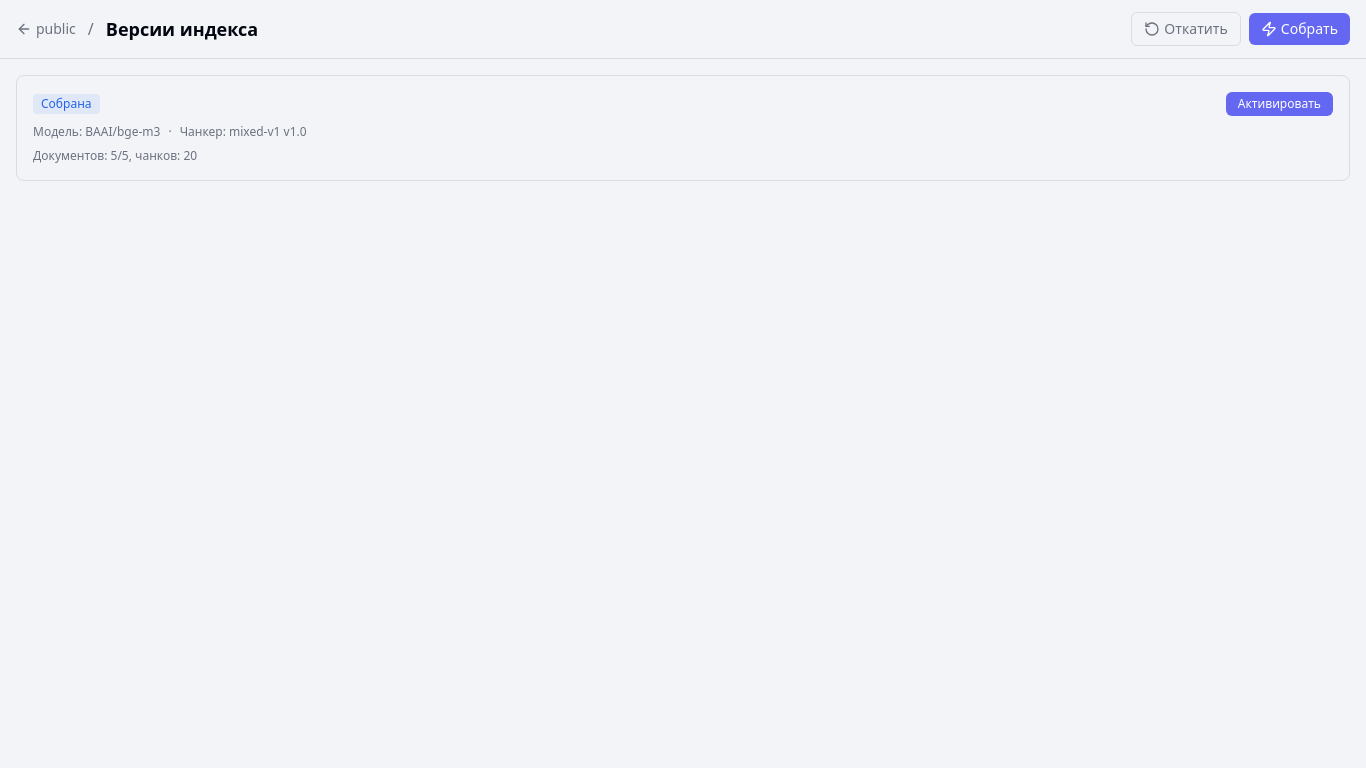
Scenario: IndexVersionsPage › activate success with warning closes dialog and shows notice
// Открываем диалог кнопкой в строке версии
Click the button "Активировать" at [1279, 104], box [1226,92,1333,116]
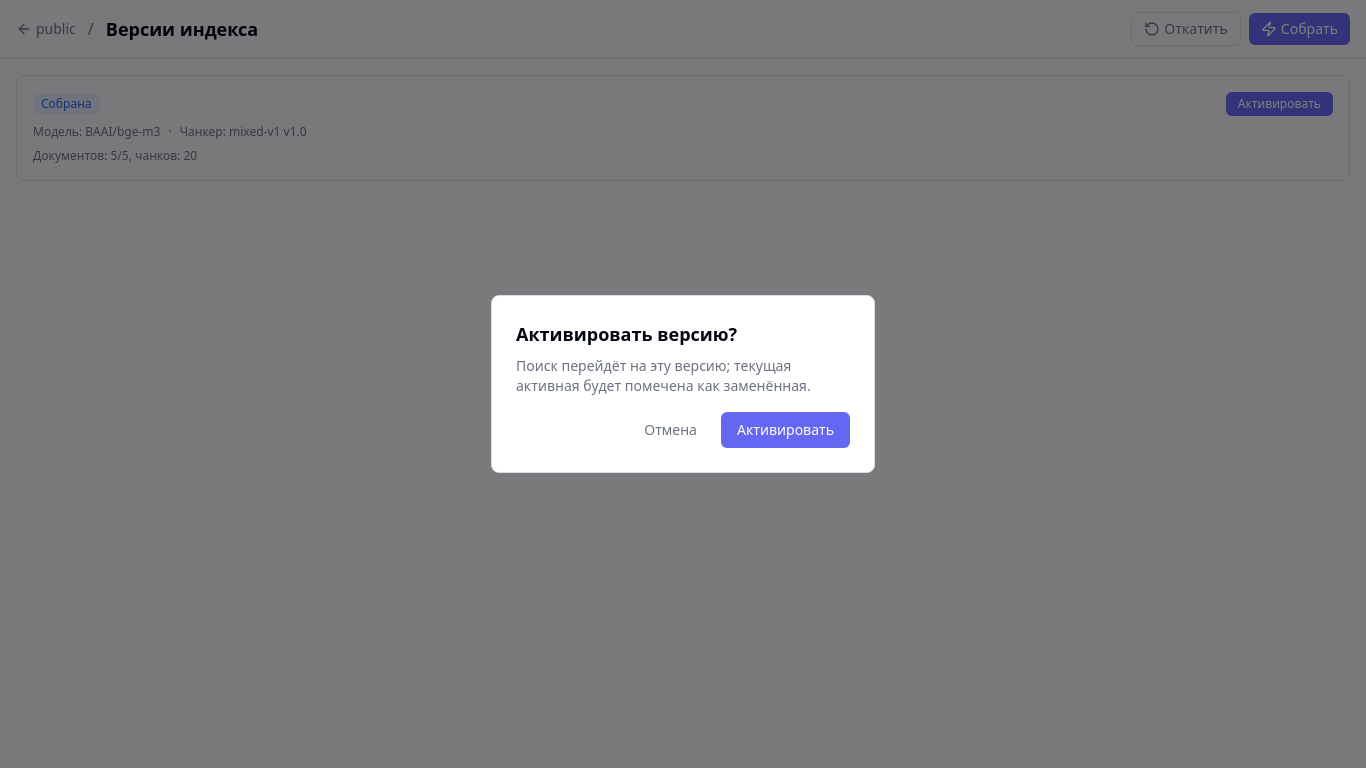
Check: the heading "Активировать версию?" is shown, box [516,322,737,346]
// Подтверждаем в диалоге (вторая кнопка с тем же текстом)
Click the button "Активировать" at [785, 430], box [721,412,850,448]
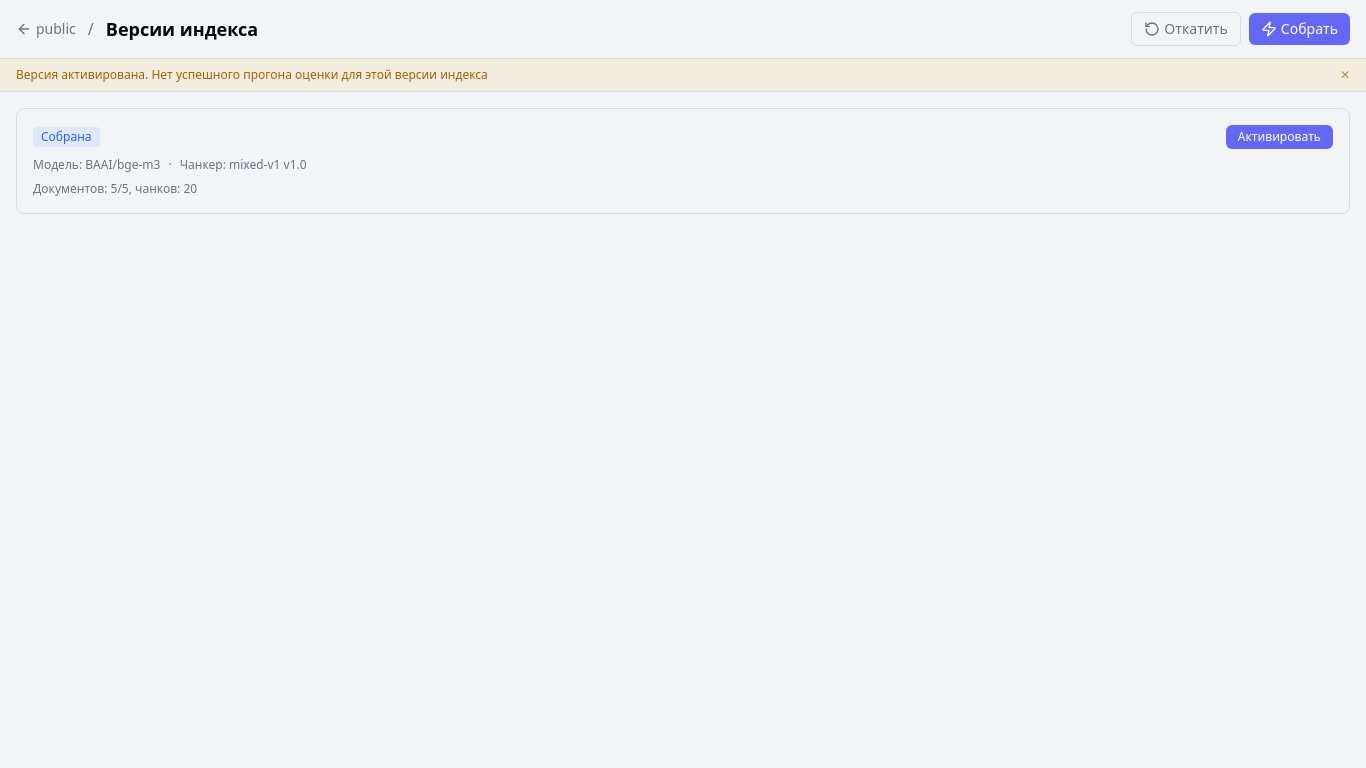
Check: the heading "Активировать версию?" is gone
Check: the text "Нет успешного прогона оценки" is shown, box [16,66,488,83]
